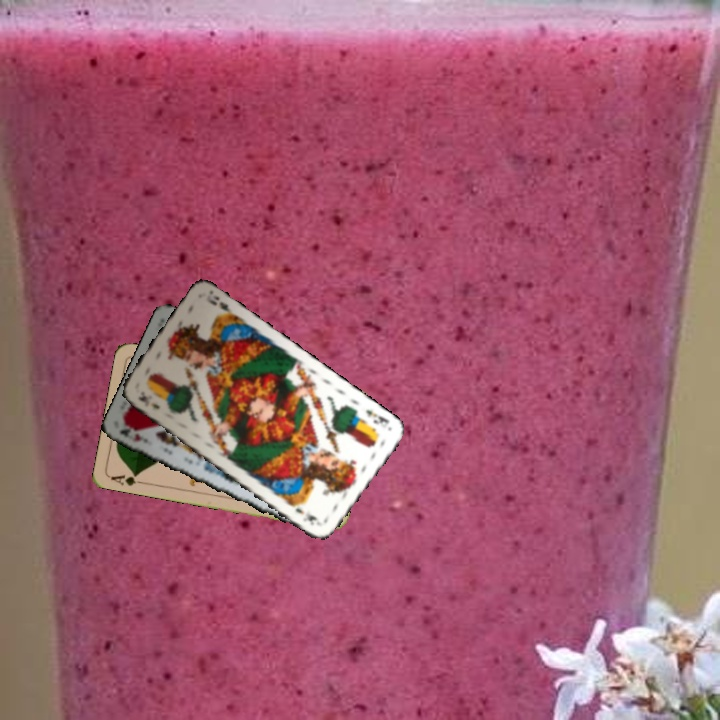EK: (134, 387, 162, 412), (361, 405, 392, 427)
GA: (107, 469, 147, 489)
HK: (115, 420, 150, 446)
